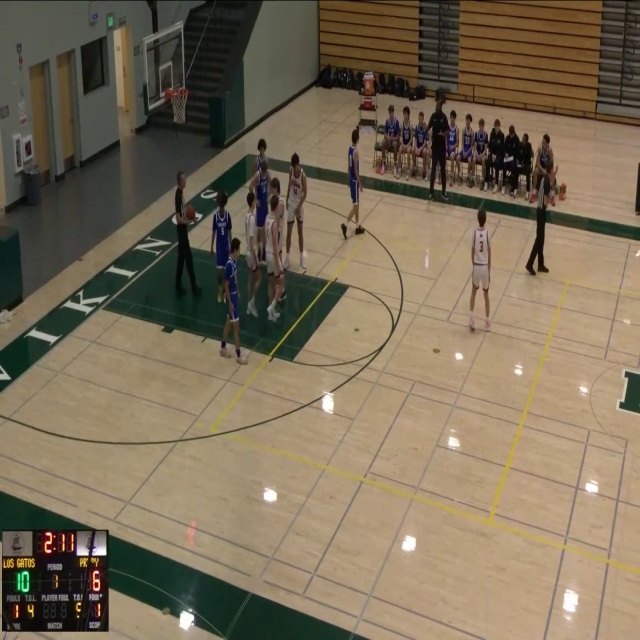Basketball: (185, 206, 195, 220)
